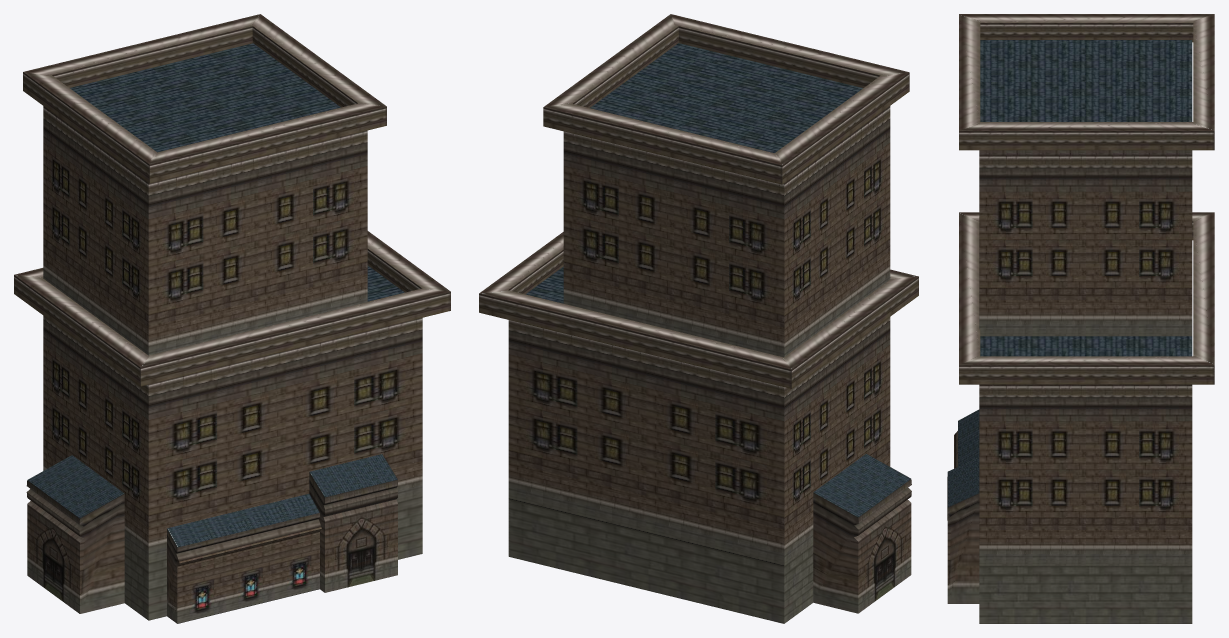
Rendered from building02.fbx.
3 renders of one model, left to right at view 1: azimuth 30°, elevation 25°; view 2: azimuth 150°, elevation 25°; view 3: azimuth 270°, elevation 25°, orthographic.
Parts seen in each view (by area): view 1: MainPart; view 2: MainPart; view 3: MainPart.
Boxes of the visible parts, x1,y1,x2,y2 form: MainPart: [14, 14, 450, 623]; MainPart: [479, 14, 918, 623]; MainPart: [947, 14, 1214, 623].
Size of the model in its own units: 3696 by 4875 by 2508.
5 materials, 5 textured.
